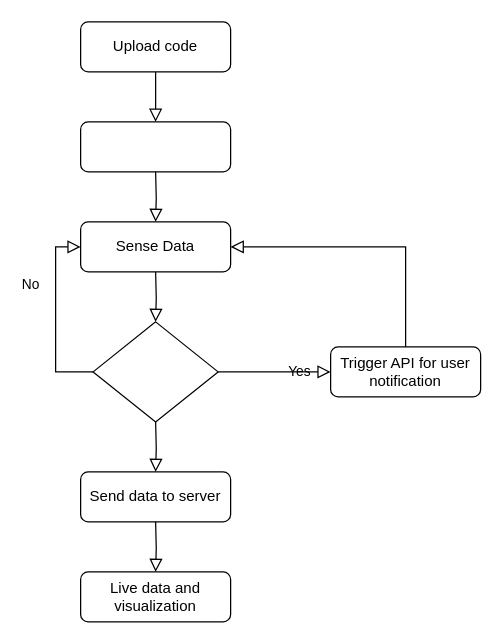
Image size: 503x644. Some labels were removed from this diagram. The shapes that lost their labels are listed below. From the top down, each one's centre as x and y in pixels, then its label:
At point (155, 146): "Run Python Script".
At point (155, 371): "values greater than threshold".
